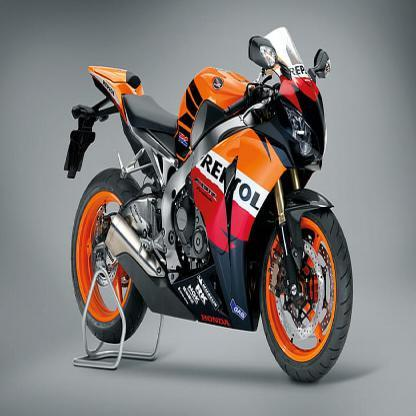Motorcycle: (62, 16, 356, 386)
